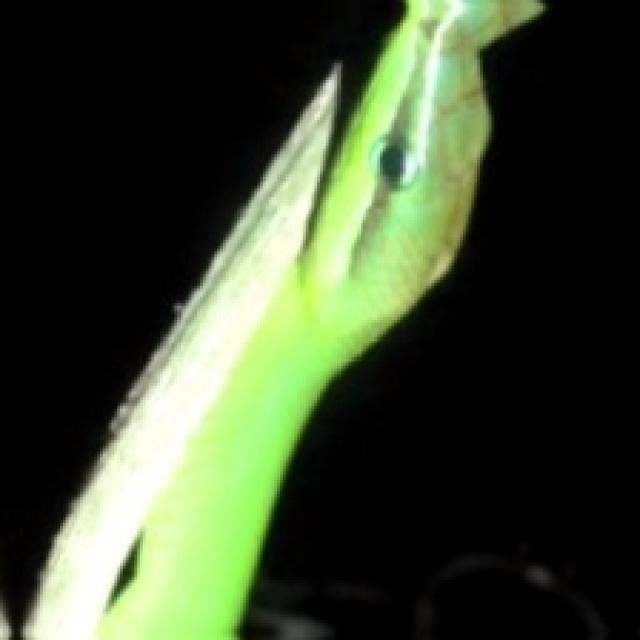red-tailed green ratsnake: (23, 0, 540, 637)
